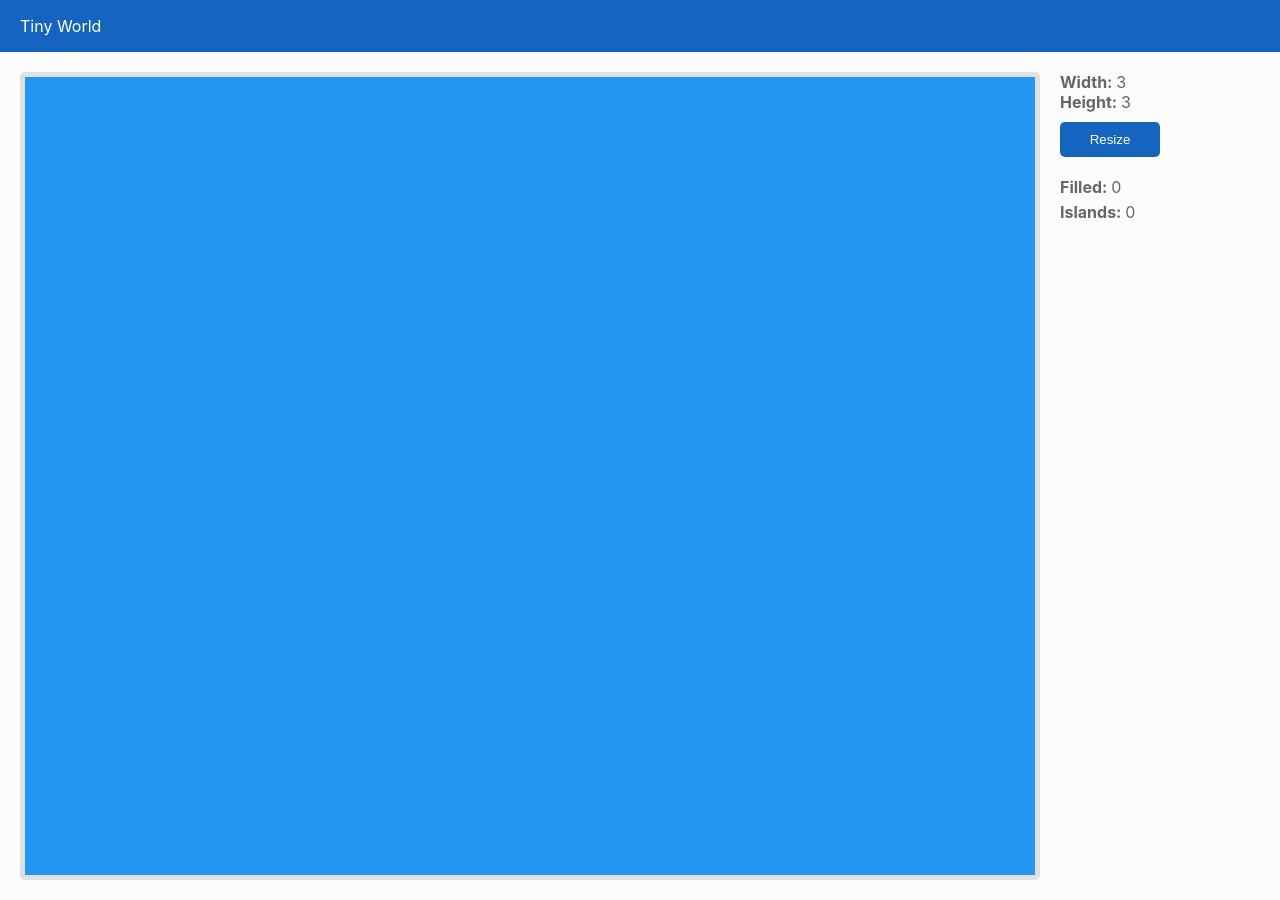
Test: App › resize failed
The width and height of the screenshot is (1280, 900).
Step 1. Click the button "Resize" → point(1110, 140), box [1060, 122, 1160, 157]
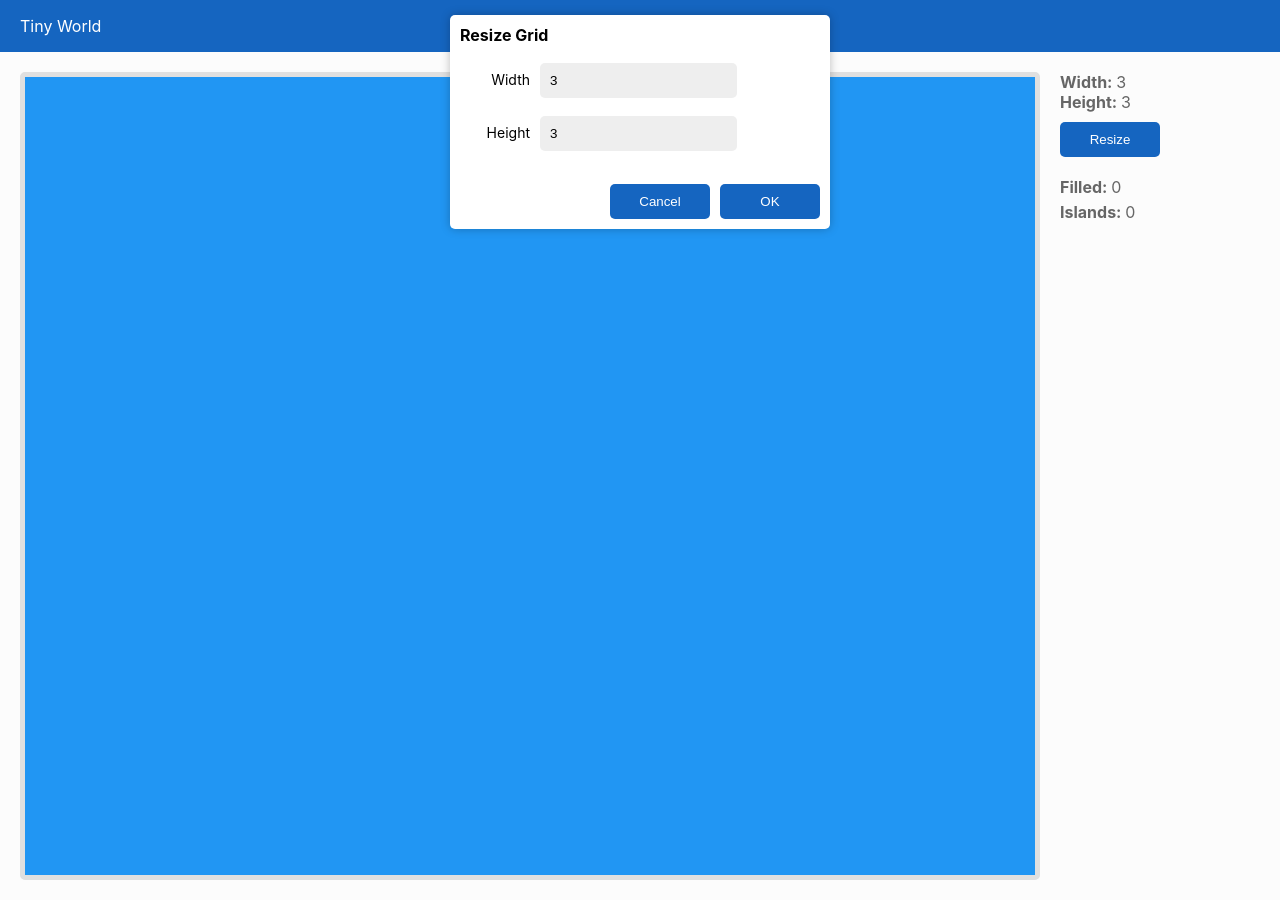
Expected: the dialog is shown, [450, 15, 830, 229]
Expected: the number field labelled "Width" holds "3"
Expected: the button "OK" is shown, [720, 184, 820, 219]
# The user enters a value of 2 in the width input
Step 2. Replace the text in the number field labelled "Width" with "-2" → point(638, 81), box [540, 63, 737, 98]
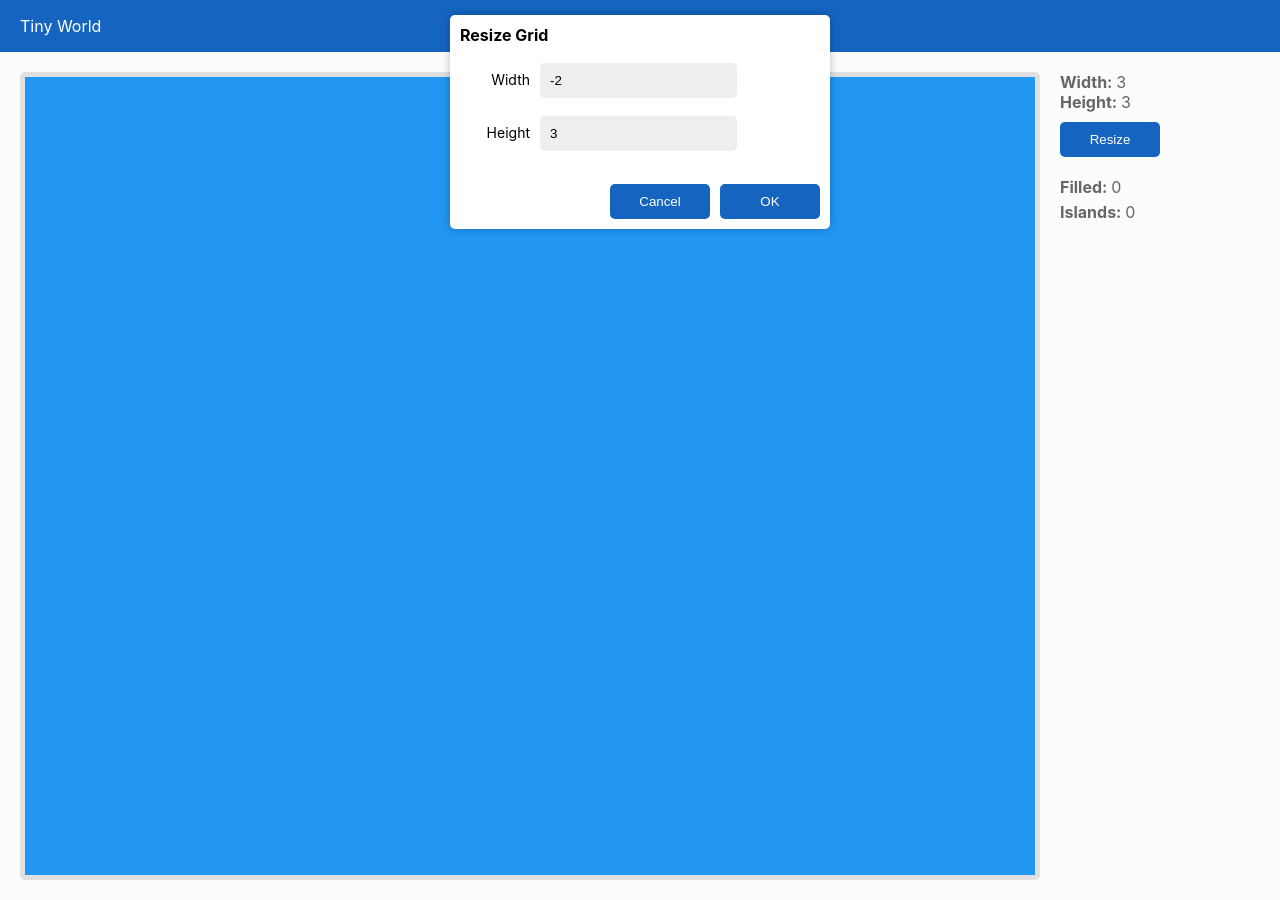
# The user clicks the button with "OK" text
Step 3. Click the button "OK" → point(770, 202), box [720, 184, 820, 219]
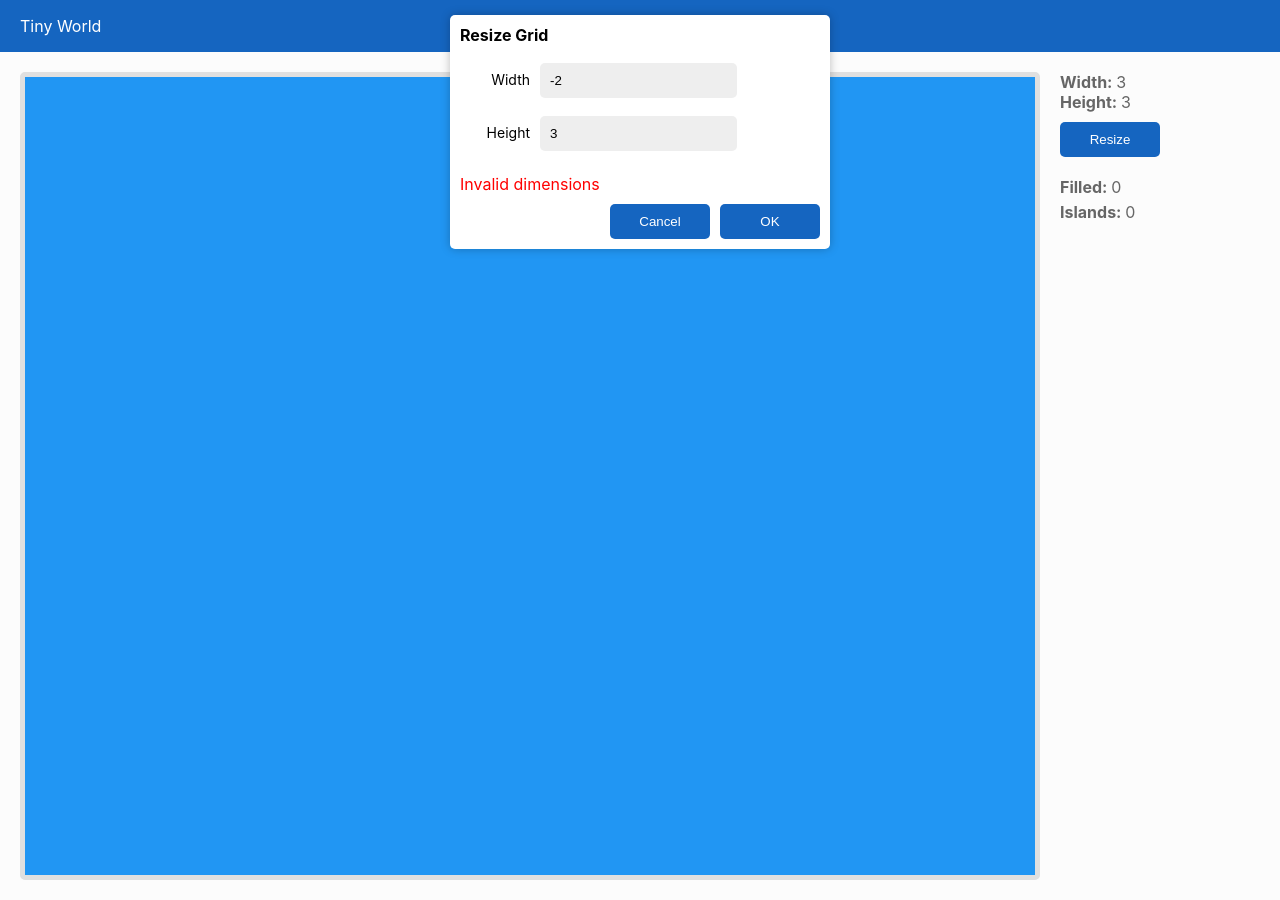
Expected: the dialog is shown, [450, 15, 830, 249]
Expected: the text "Invalid dimensions" is shown, [460, 174, 600, 194]
